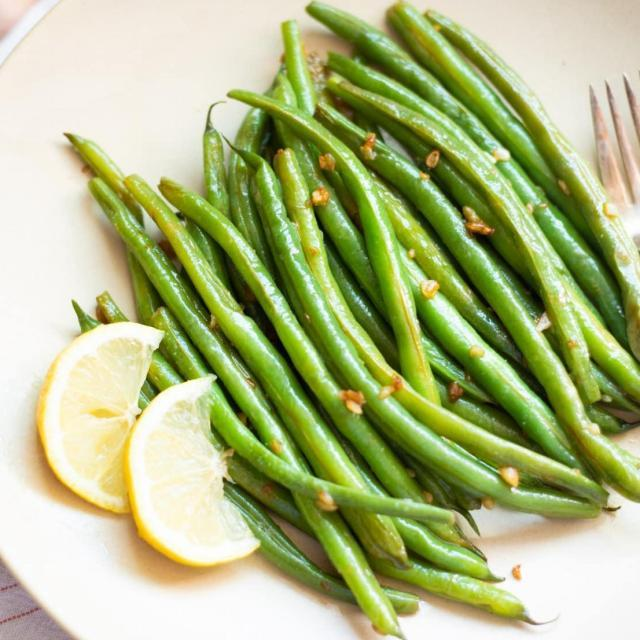Beans: (23, 0, 639, 639)
